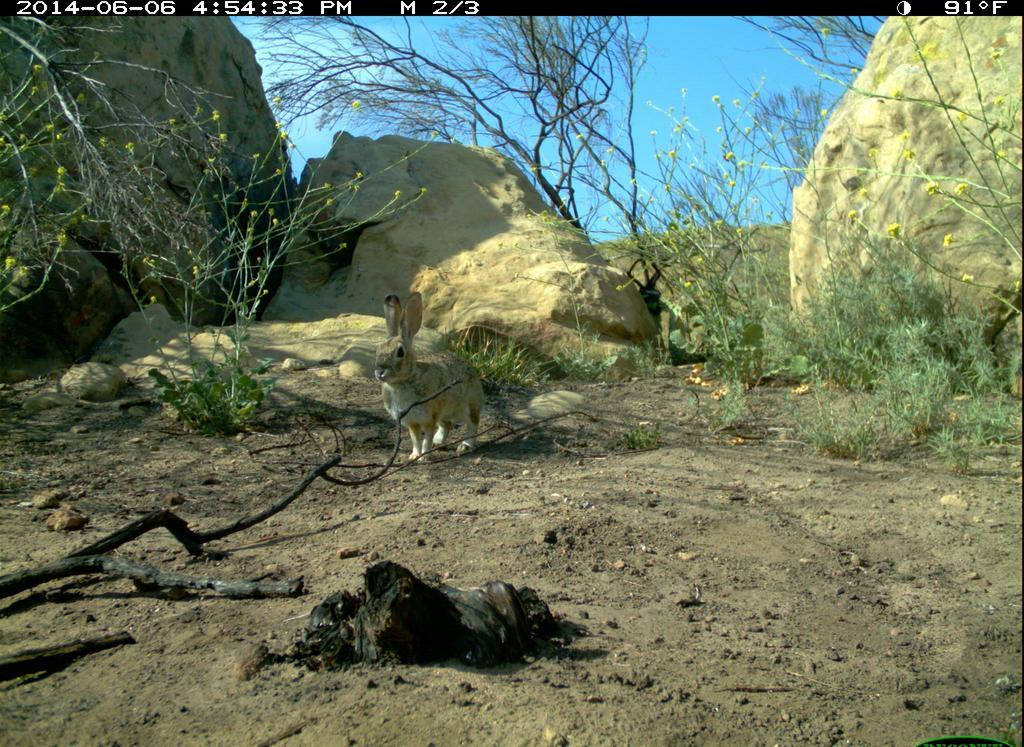rabbit: (365, 285, 495, 466)
